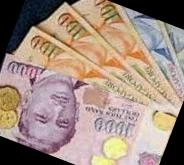1000SingaporeDollar: (0, 53, 177, 165)
